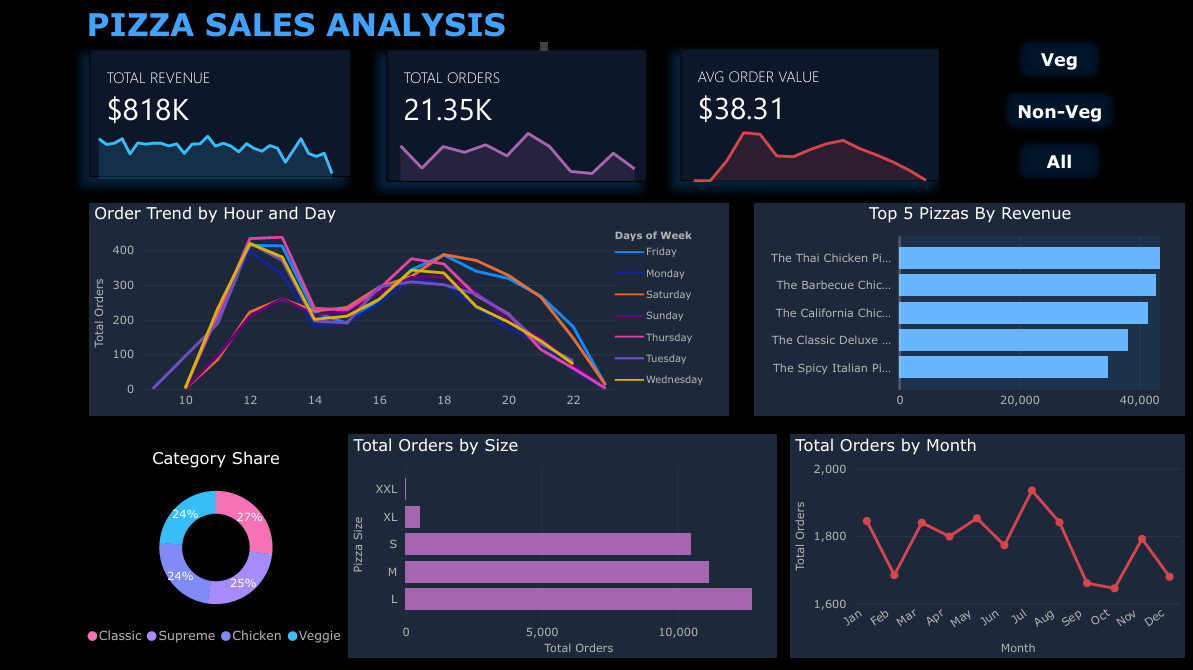

The dashboard page shown, as its layout file describes it:
{"tool":"powerbi","page":{"name":"Page 2","canvas":[1280,720],"ordinal":1},"visuals":[{"type":"cardVisual","fields":{"Data":["Sum(pizza_sales.total_price)"]},"box":[100,55.7,278.6,136.4],"z":0,"group":"g4"},{"type":"group","id":"g1","title":"Group 1","box":[415.7,55.7,277.1,145.7],"z":0},{"type":"group","id":"g2","title":"Group 1","box":[728.2,55.5,277.3,146.4],"z":1000},{"type":"lineChart","fields":{"Category":["pizza_sales.order_date.Variation.Date Hierarchy.Day"],"Y":["Sum(pizza_sales.total_price)"]},"box":[95.3,121.8,278.2,76.5],"z":1000,"group":"g4"},{"type":"cardVisual","fields":{"Data":["pizza_sales.Average_Order_Value"]},"box":[728.9,55.5,276.1,141],"z":2000,"group":"g3"},{"type":"cardVisual","fields":{"Data":["Count(pizza_sales.order_id)"]},"box":[415.7,55.7,277.2,141],"z":2000,"group":"g1"},{"type":"lineChart","title":"Order Trend by Hour and Day","fields":{"Y":["Count(pizza_sales.order_id)"],"Category":["pizza_sales.Hour"],"Series":["pizza_sales.Day Name"]},"box":[100,220,680,226],"z":2000},{"type":"group","id":"g3","title":"Group 4","box":[728.2,55.5,276.8,146.7],"z":2001,"group":"g2"},{"type":"lineChart","fields":{"Category":["pizza_sales.order_date.Variation.Date Hierarchy.Month"],"Y":["Count(pizza_sales.order_id)"]},"box":[416.5,121.5,276.7,79.2],"z":3000,"group":"g1"},{"type":"lineChart","fields":{"Category":["pizza_sales.Hour"],"Y":["Sum(pizza_sales.order_id)"]},"box":[728.2,123,276.7,79.2],"z":3000,"group":"g3"},{"type":"barChart","title":"Top 5 Pizzas By Revenue","fields":{"Category":["pizza_sales.pizza_name"],"Y":["Sum(pizza_sales.total_price)"]},"box":[808,220,458,226],"z":3000},{"type":"donutChart","title":"Category Share","fields":{"Category":["pizza_sales.pizza_category"],"Y":["Sum(pizza_sales.total_price)"]},"box":[90,480,288.6,218.6],"z":4000},{"type":"barChart","title":"Total Orders by Size","fields":{"Category":["pizza_sales.pizza_size"],"Y":["Count(pizza_sales.order_id)"]},"box":[376,466,456,238],"z":5000},{"type":"lineChart","title":"Total Orders by Month","fields":{"Y":["Count(pizza_sales.order_id)"],"Category":["pizza_sales.Month_Name_Abbr"]},"box":[846,466,420,238],"z":6000},{"type":"textbox","title":"PIZZA SALES ANALYSIS","box":[92.2,7.8,501.1,55.6],"z":7000},{"type":"actionButton","box":[1082.2,40,100,53.3],"z":8000},{"type":"actionButton","box":[1067.7,94.6,129.2,53.1],"z":9000},{"type":"actionButton","box":[1082.3,147.7,100,53.1],"z":10000},{"type":"group","id":"g4","title":"Group 2","box":[95.3,55.7,283.3,142.5],"z":11000}]}

Visuals, with their boxes in screenshot pixels (x1, y1, x2, y2), scaled from the page's 1280x720 canvas onto the 1193x670 screenshot:
cardVisual - Sum(pizza_sales.total_price): (93,52,353,179)
"Group 1" group: (387,52,646,187)
"Group 1" group: (679,52,937,188)
lineChart - pizza_sales.order_date.Variation.Date Hierarchy.Day x Sum(pizza_sales.total_price): (89,113,348,185)
cardVisual - pizza_sales.Average_Order_Value: (679,52,937,183)
cardVisual - Count(pizza_sales.order_id): (387,52,646,183)
"Order Trend by Hour and Day" lineChart: (93,205,727,415)
"Group 4" group: (679,52,937,188)
lineChart - pizza_sales.order_date.Variation.Date Hierarchy.Month x Count(pizza_sales.order_id): (388,113,646,187)
lineChart - pizza_sales.Hour x Sum(pizza_sales.order_id): (679,114,937,188)
"Top 5 Pizzas By Revenue" barChart: (753,205,1180,415)
"Category Share" donutChart: (84,447,353,650)
"Total Orders by Size" barChart: (350,434,775,655)
"Total Orders by Month" lineChart: (788,434,1180,655)
"PIZZA SALES ANALYSIS" textbox: (86,7,553,59)
actionButton: (1009,37,1102,87)
actionButton: (995,88,1116,137)
actionButton: (1009,137,1102,187)
"Group 2" group: (89,52,353,184)
